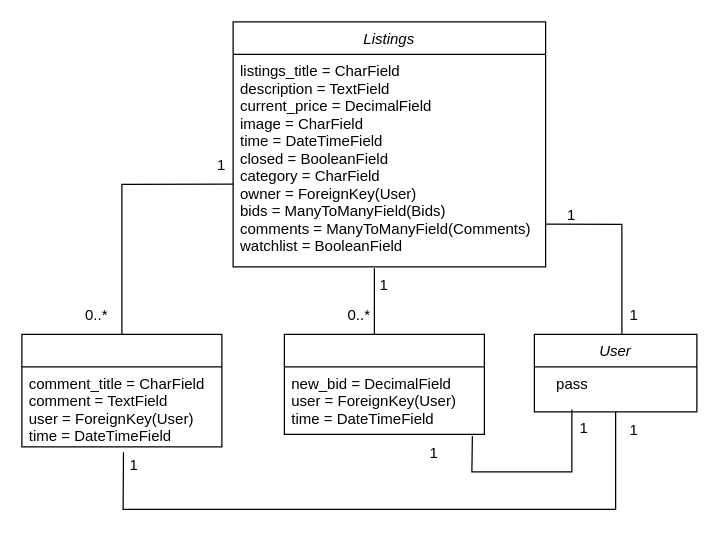
Image size: 719x533. Some labels were removed from this diagram. Each missing label, with the box of its shape:
Bids: (283, 333, 484, 434)
Comments: (21, 333, 222, 447)
